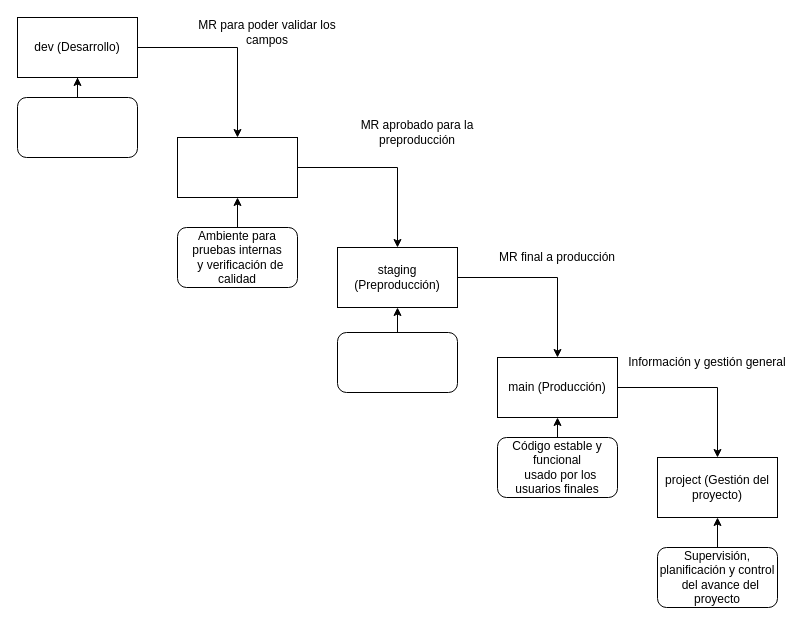
Image size: 805x625. Some labels were removed from this diagram. Each missing label, with the centre of its shape:
Aquí se desarrollan nuevas funcionalidades y correcciones: (77,127)
qa (Quality Assurance): (237,167)
Replica el entorno real para pruebas finales antes del despliegue: (397,362)
